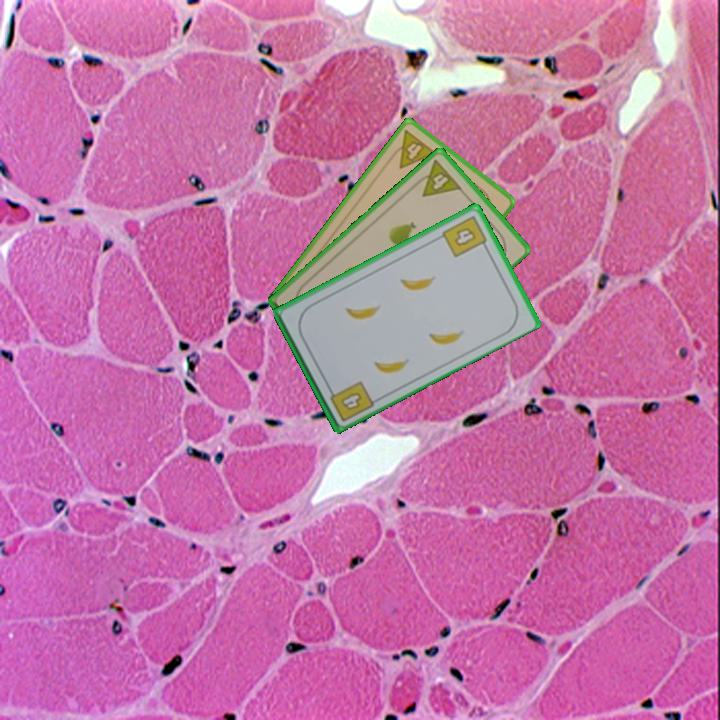4b: (438, 212, 491, 260), (324, 377, 376, 424)
4p: (385, 126, 439, 171), (410, 156, 464, 200)
